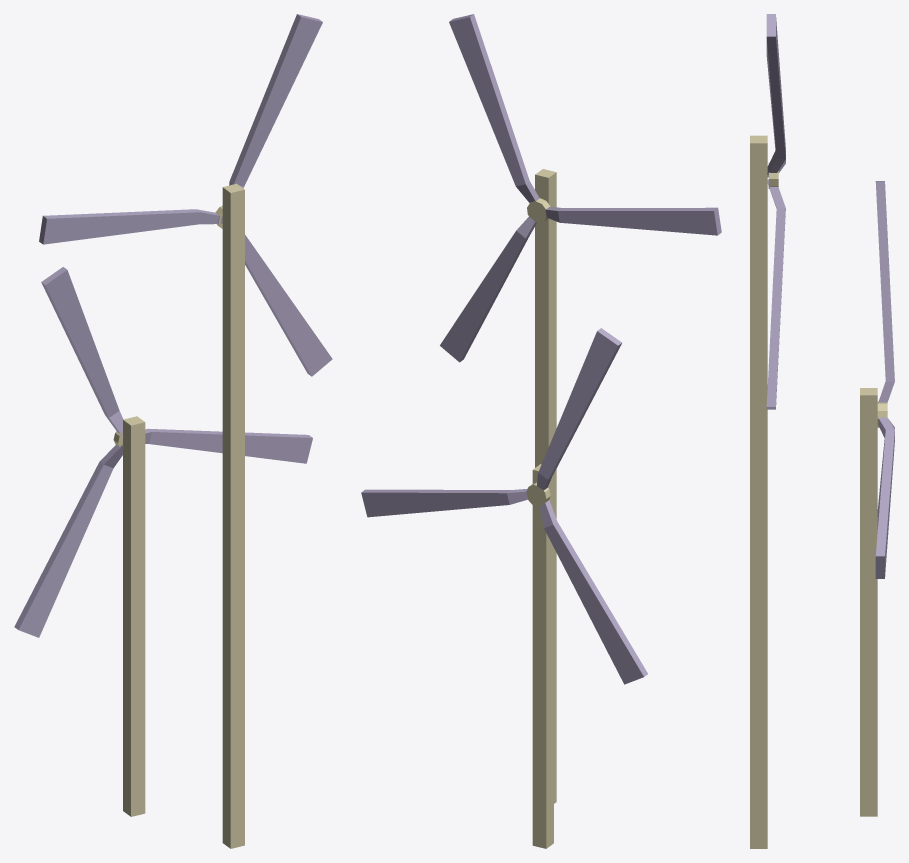
File: windturbine.glb
3 views of the same model, side by side, from view 1: azimuth 30°, elevation 25°; view 2: azimuth 150°, elevation 25°; view 3: azimuth 270°, elevation 25° (orthographic). The views are drawn at different scales.
Parts seen in each view (by area): view 1: Plane.008; view 2: Plane.008; view 3: Plane.008.
Part boxes in pixels (x1,y1,x2,y2): Plane.008: [14, 14, 332, 848]; Plane.008: [361, 14, 721, 848]; Plane.008: [750, 14, 894, 848].
Bounding box in the file's own units: 1.55 × 3.73 × 0.5637.
